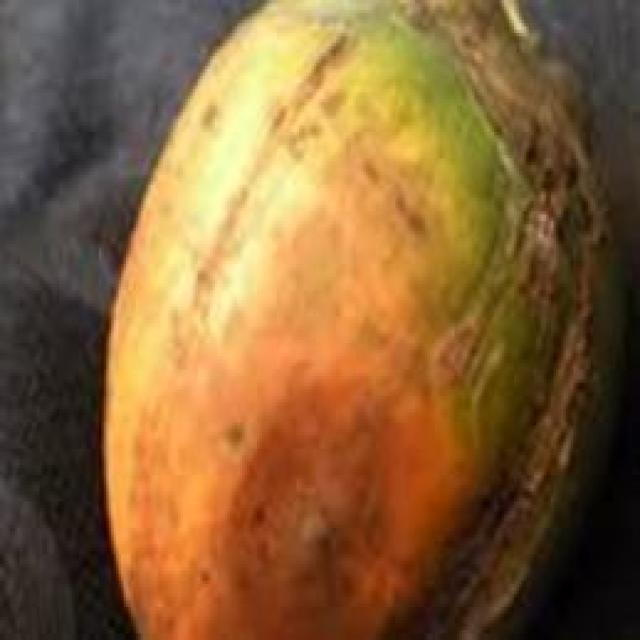good: (99, 0, 623, 637)
